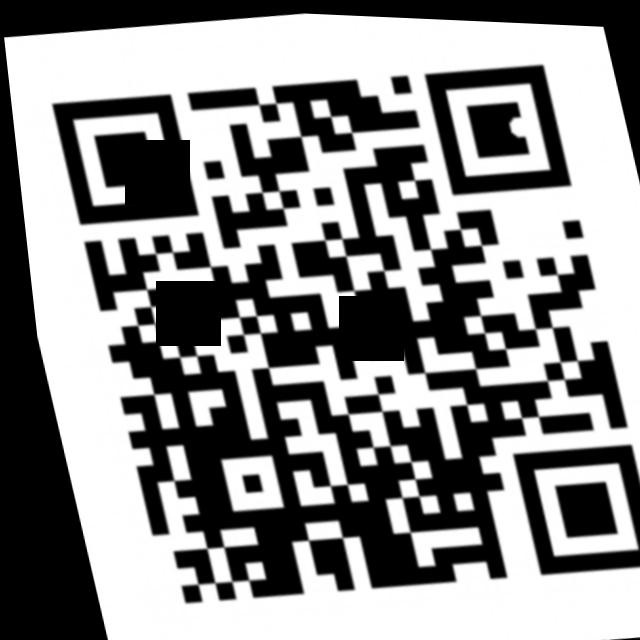QR_CODE: (21, 24, 640, 640)
